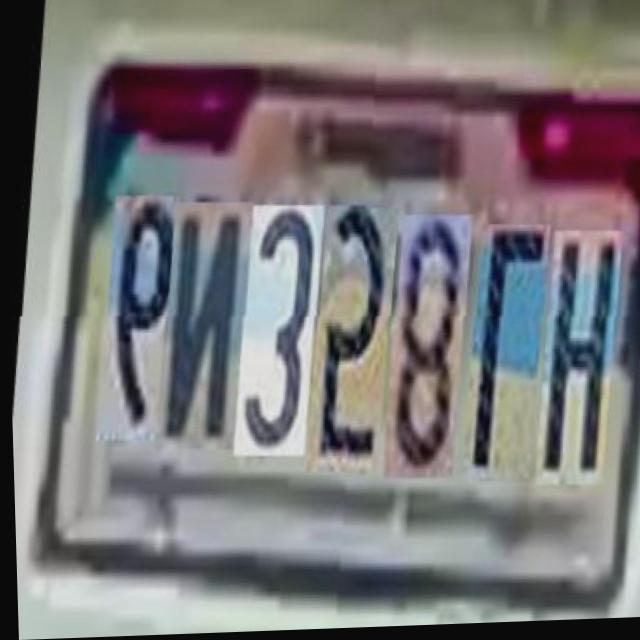3: (222, 204, 319, 458)
5: (296, 203, 394, 474)
6: (84, 194, 175, 442)
8: (372, 210, 469, 477)
h: (524, 226, 617, 483)
l: (451, 220, 545, 478)
n: (144, 200, 249, 452)
